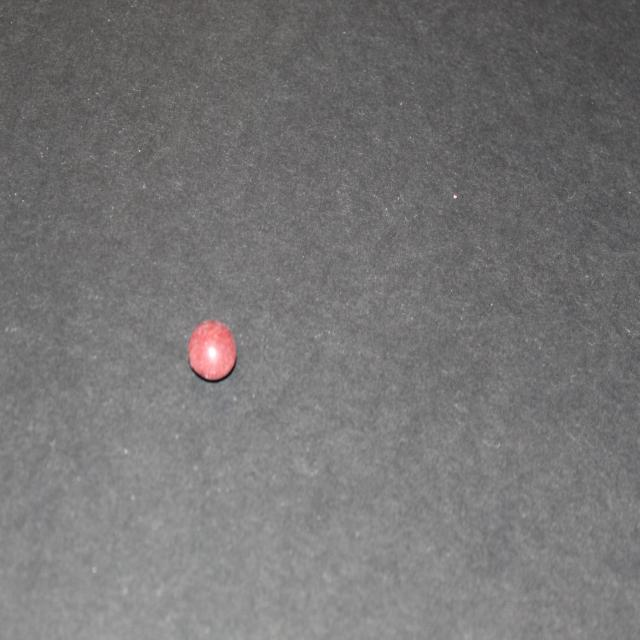smartie: (186, 320, 240, 387)
